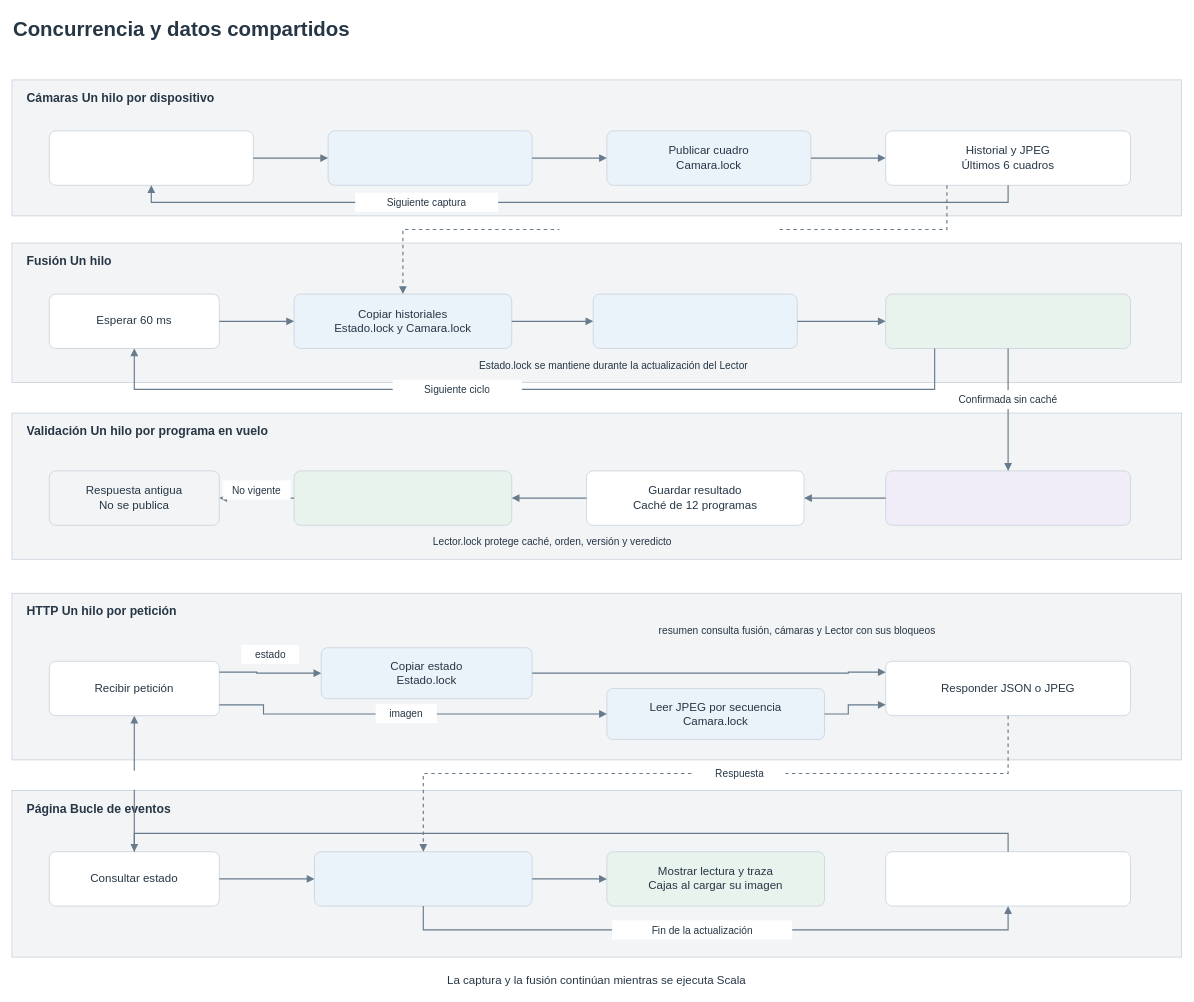
Some shapes in this 1194 by 1002 pixel diagram are drawn without their labels. Each missing label, with the centre of its shape:
"Actualizar lectura y versión Lector.lock" belongs at (x=1008, y=321).
"Aplicar respuesta vigente Sesión y revisión" belongs at (x=423, y=878).
"Capturar cuadro Intervalo mínimo 100 ms" belongs at (x=151, y=157).
"Copia de cuadros disponibles" belongs at (x=668, y=229).
"Ejecutar Scala en Node Tiempo máximo 60 s" belongs at (x=1008, y=497).
"Fusionar evidencias Fusion.lock" belongs at (x=695, y=321).
"GET" belongs at (x=134, y=779).
"Programar otra consulta 250 ms tras actualizar" belongs at (x=1008, y=878).
"Publicar si sigue vigente Comparar orden y versión" belongs at (x=402, y=497).
"Reconocer símbolos Vocabulario.lock al puntuar" belongs at (x=429, y=157).
